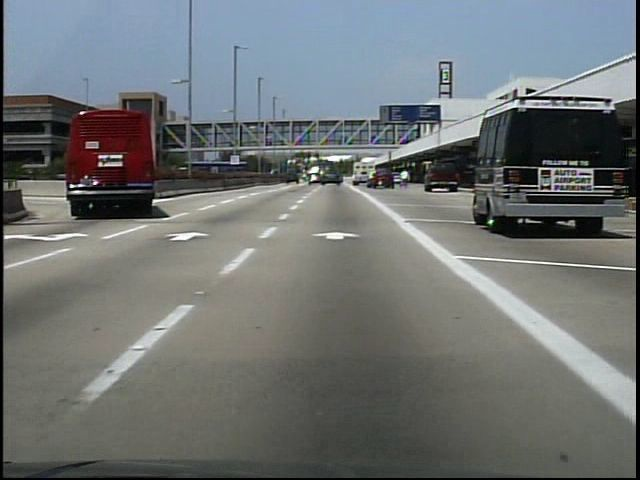person: (396, 169, 410, 191)
